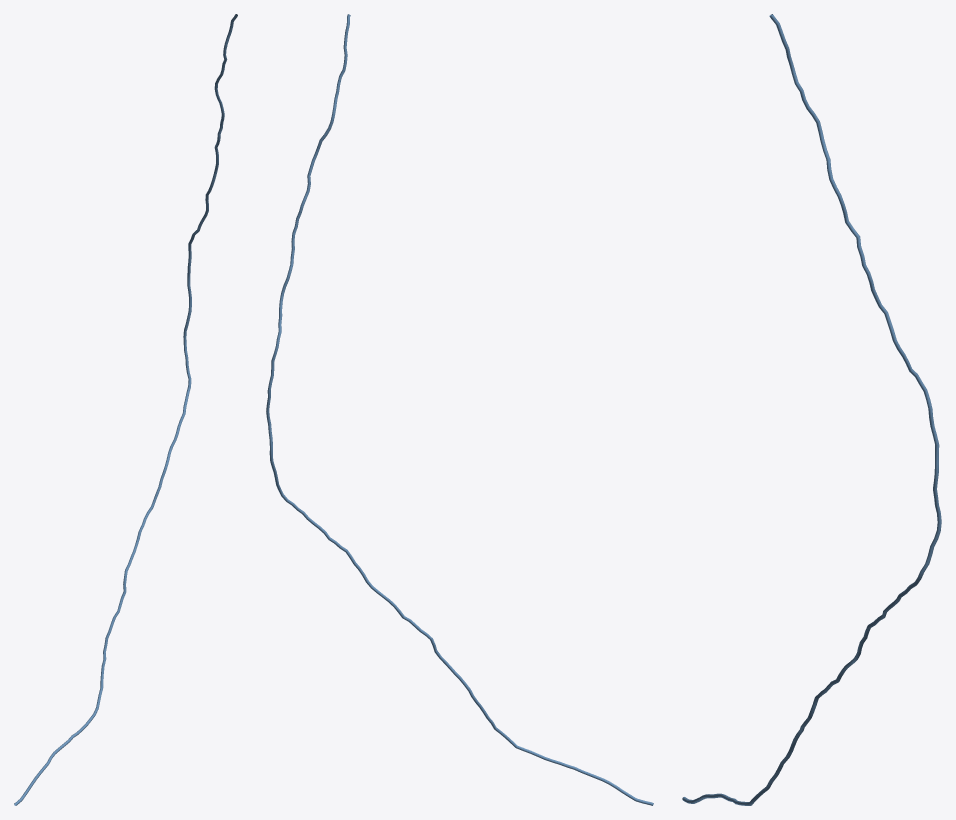
File: sweep118.fbx
The picture shows the model from 3 angles, left to right: view 1: azimuth 30°, elevation 25°; view 2: azimuth 150°, elevation 25°; view 3: azimuth 270°, elevation 25°; orthographic projection. The views are drawn at different scales.
Parts seen in each view (by area): view 1: sweep118; view 2: sweep118; view 3: sweep118.
Boxes of the visible parts, x1,y1,x2,y2 form: sweep118: (14, 14, 237, 805); sweep118: (266, 14, 653, 805); sweep118: (682, 14, 941, 805).
Bounding box in the file's own units: 2.04 × 5.07 × 1.25.
